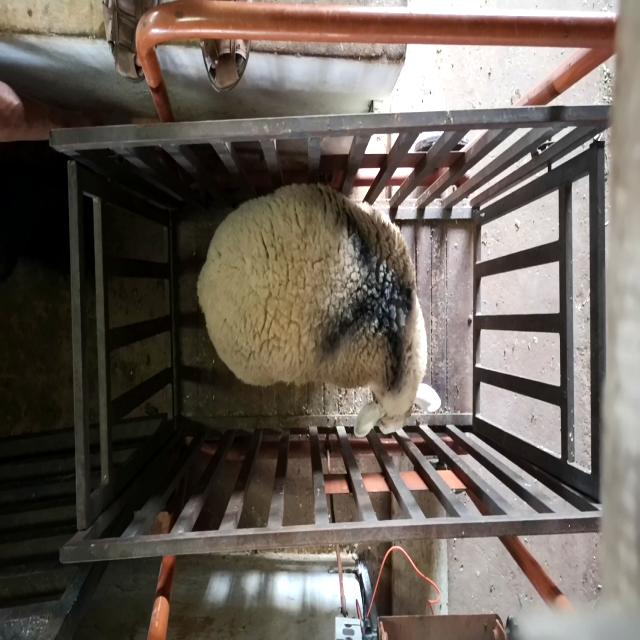sheep: (197, 185, 443, 438)
